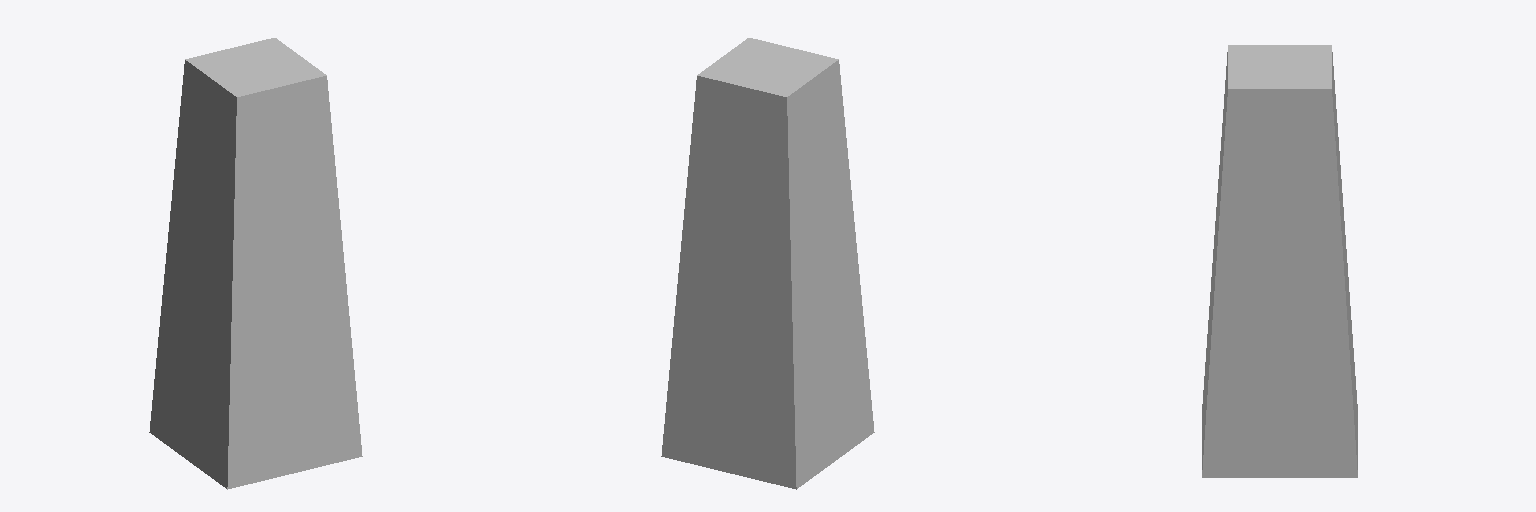
The model's file is VerticalThickThin.obj.
3 views of the same model, side by side, from view 1: azimuth 30°, elevation 25°; view 2: azimuth 150°, elevation 25°; view 3: azimuth 270°, elevation 25° (orthographic).
Size of the model in its own units: 0.375 by 1 by 0.375.